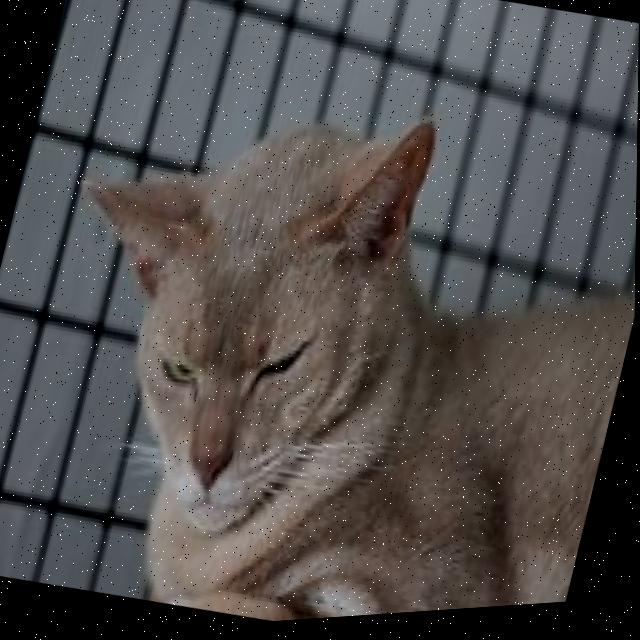Abyssinian: (0, 33, 639, 640)
